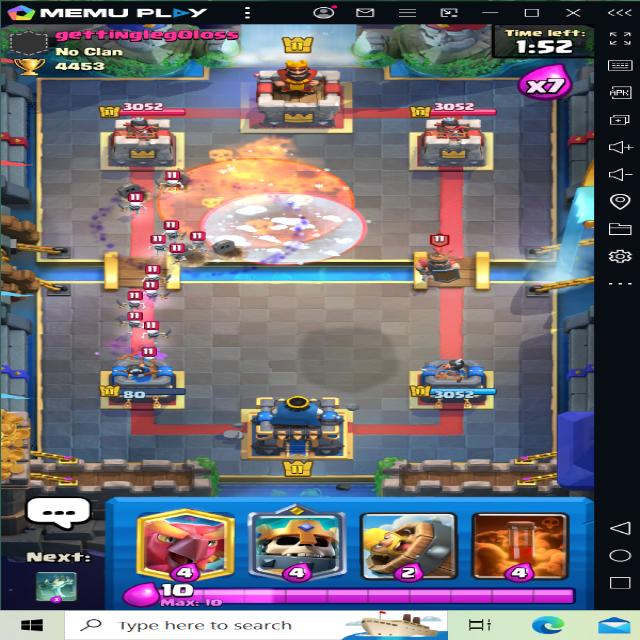freeze: (205, 192, 362, 263)
poison: (163, 157, 362, 240)
royal-recruits: (407, 235, 466, 289)
skeleton: (133, 262, 175, 288), (134, 229, 172, 254), (166, 242, 197, 271), (131, 348, 163, 375), (118, 189, 150, 215), (156, 218, 190, 240), (136, 283, 174, 302), (141, 320, 170, 340), (120, 292, 144, 311), (123, 314, 150, 330), (186, 231, 207, 251), (162, 174, 181, 190)
